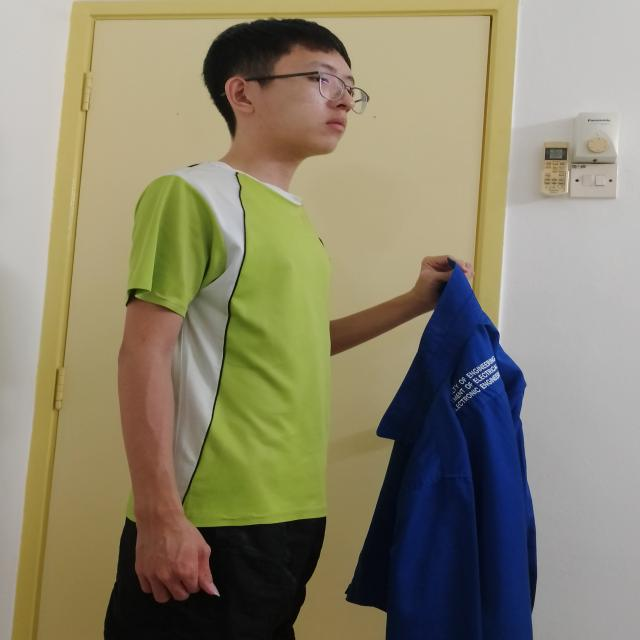person_without_labcoat: (104, 19, 536, 640)
